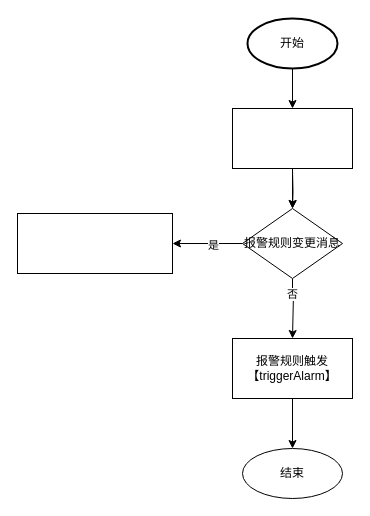
Some shapes in this 370 by 516 pixel diagram are drawn without their labels. The centre of each missing label's shape, as x and y in pixels:
删除报警规则内存缓存【doWhenModelChanged 】: point 94,243
接收到Event: point 292,138
